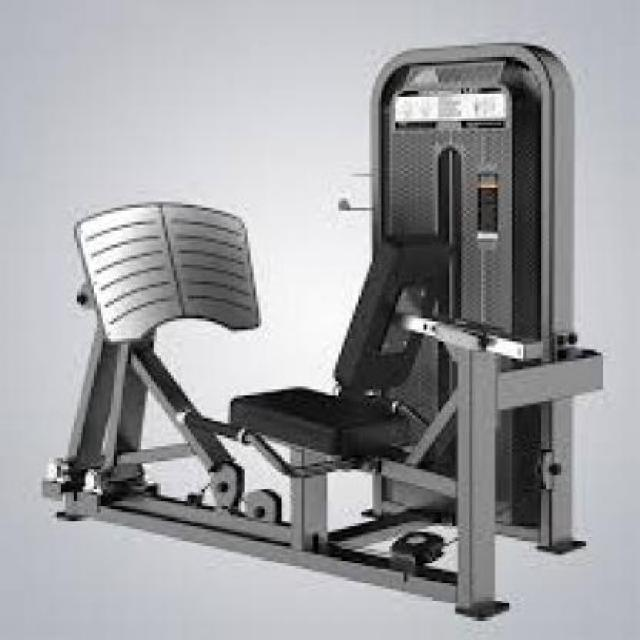leg press: (38, 33, 628, 624)
